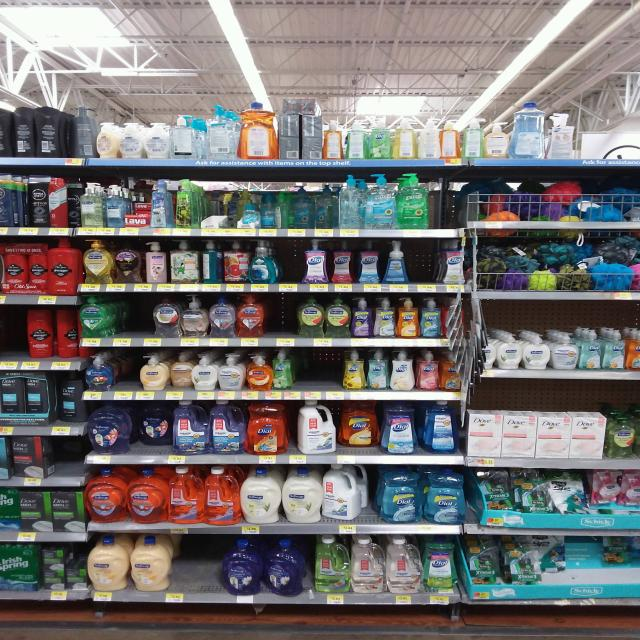void: (578, 99, 640, 160), (174, 536, 216, 596), (296, 347, 338, 391), (115, 294, 146, 339)
